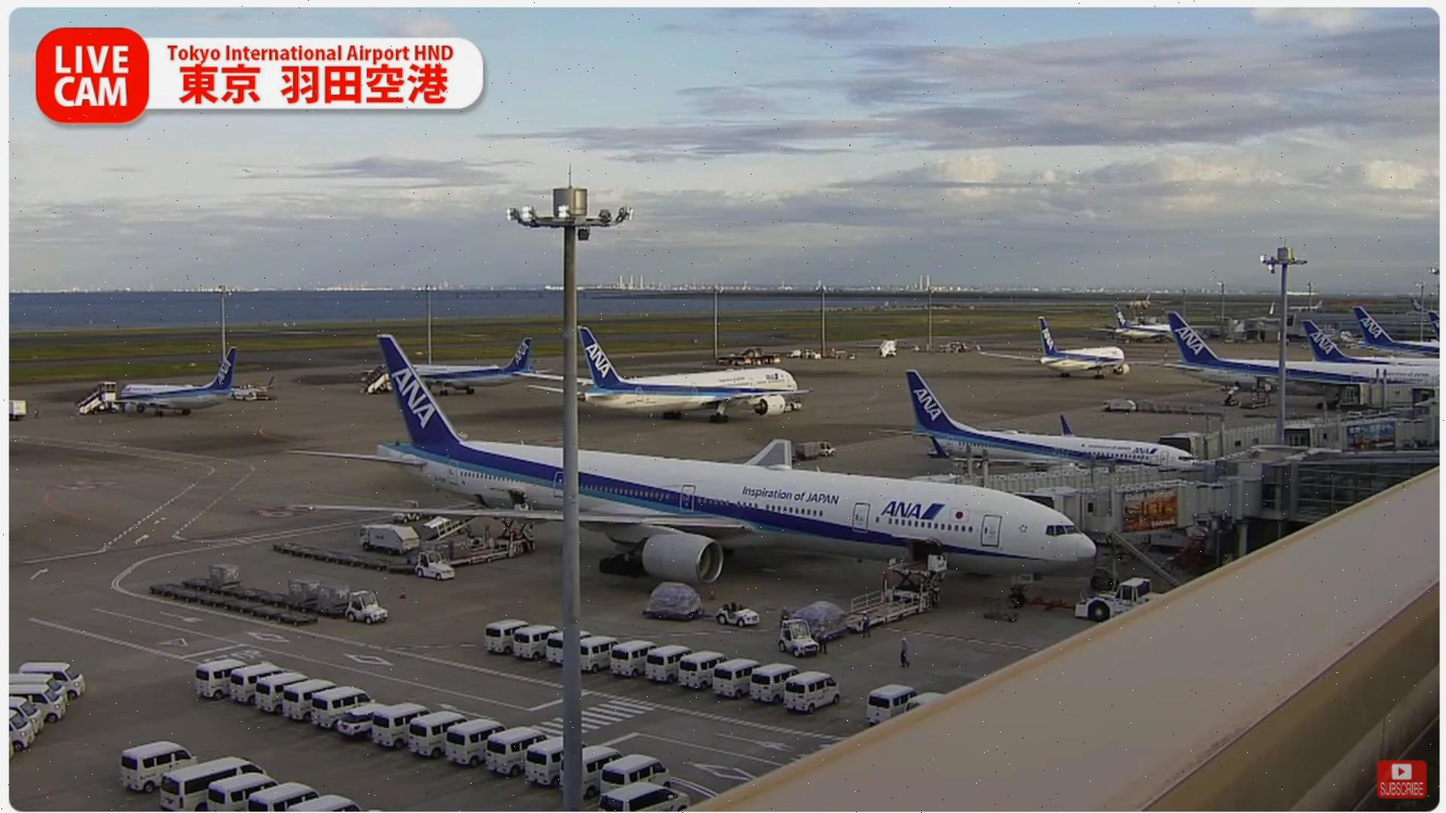APS: (1073, 579, 1171, 624)
Aerobridge: (937, 438, 1217, 490), (1025, 480, 1229, 535)
Airplane: (279, 328, 1098, 610)
Baggage truck: (356, 523, 420, 554)
Dolly: (149, 581, 320, 627), (188, 575, 348, 618), (269, 541, 413, 576), (639, 608, 718, 619), (818, 624, 848, 644)
JCPL: (825, 565, 937, 632), (442, 511, 533, 564)
Skyloader: (417, 513, 486, 554)
Tractor: (774, 617, 823, 661), (346, 592, 393, 628), (715, 595, 761, 630), (414, 550, 455, 581)
Window: (1286, 455, 1435, 523)
